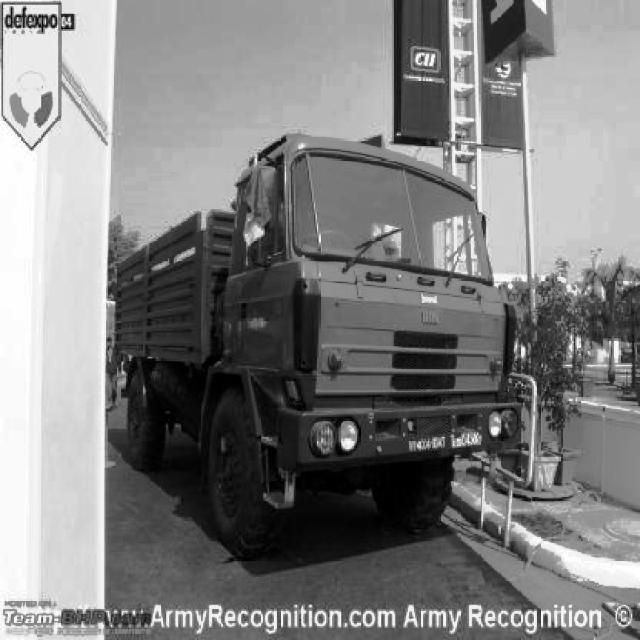HCV: (137, 197, 517, 534)
